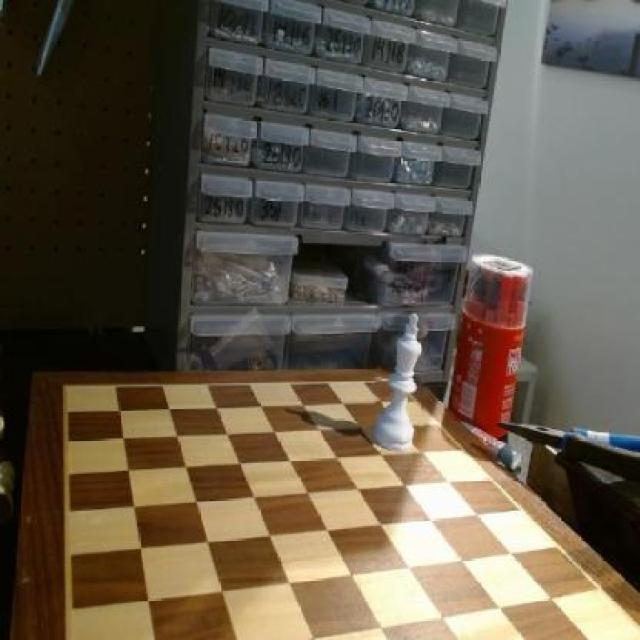white-bishop: (376, 306, 428, 453)
